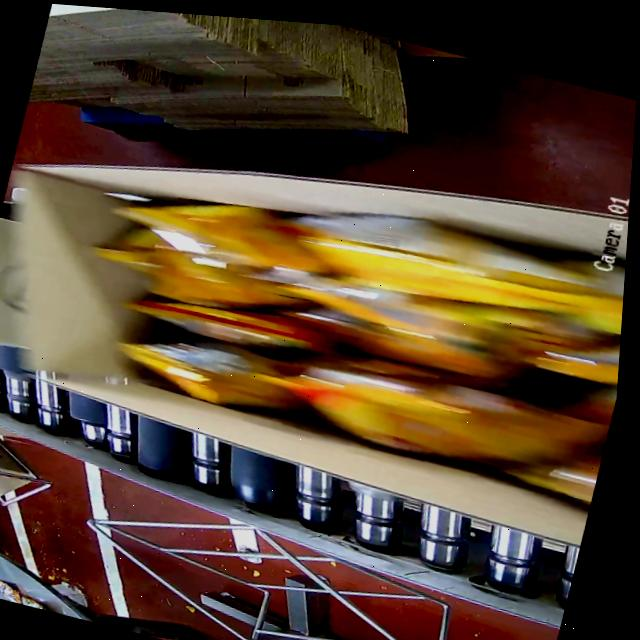FRENCH_CHEESE: (77, 154, 630, 498)
